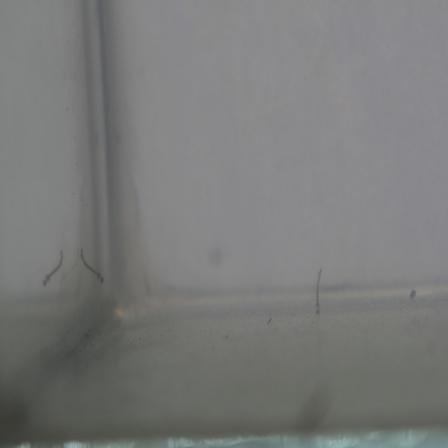Jentik-Nyamuk: (76, 245, 110, 285), (310, 265, 328, 316)
